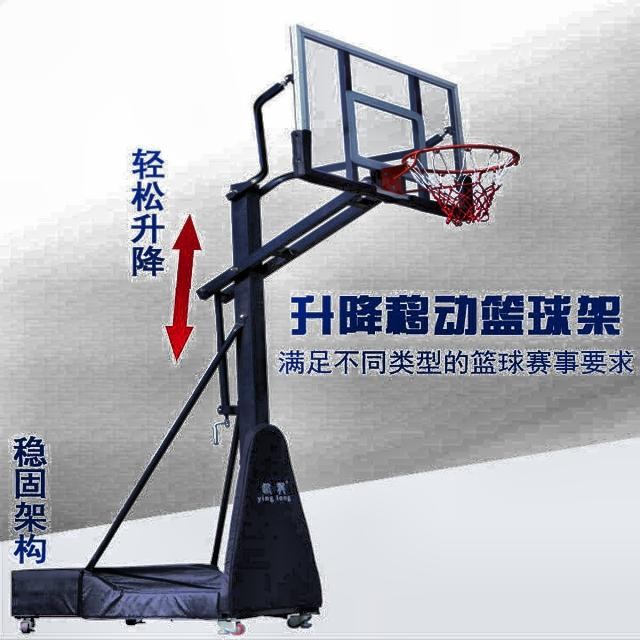rim: (402, 142, 519, 227)
